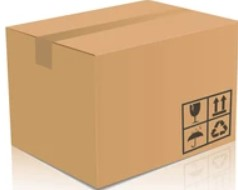stock: (6, 1, 238, 188)
